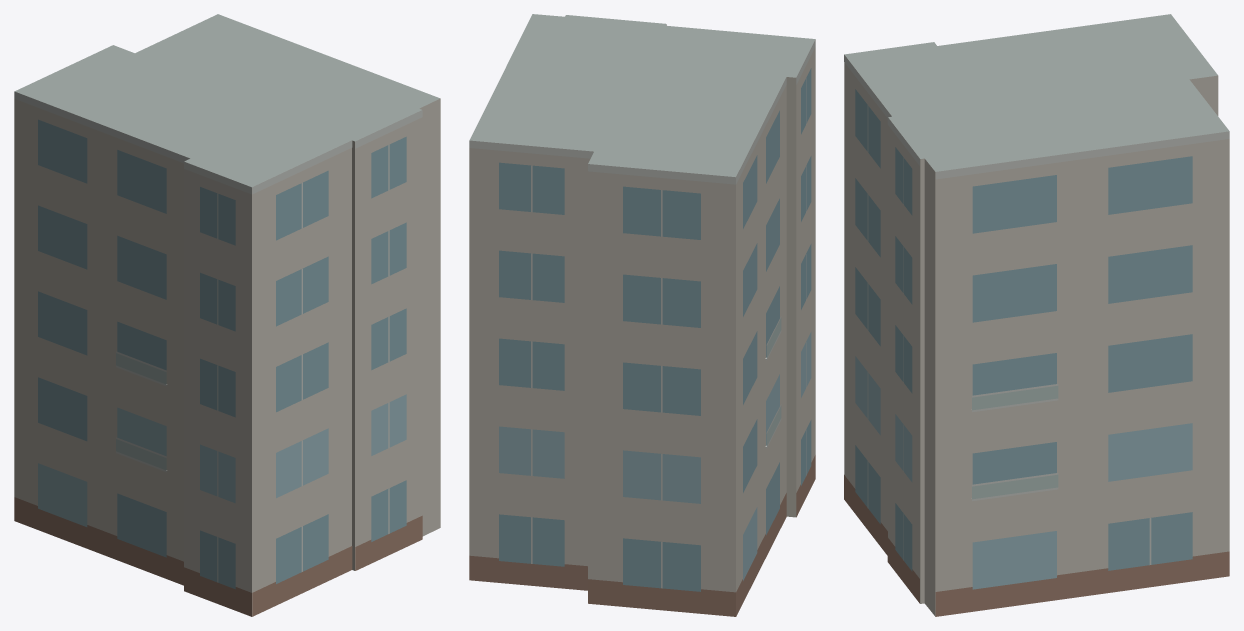
File: survey-upis-32620033.glb
The picture shows the model from 3 angles, left to right: view 1: azimuth 30°, elevation 25°; view 2: azimuth 150°, elevation 25°; view 3: azimuth 270°, elevation 25°; orthographic projection. The views are drawn at different scales.
Visible parts, largest first — view 1: survey-upis-32620033.tmp; view 2: survey-upis-32620033.tmp; view 3: survey-upis-32620033.tmp.
Part boxes in pixels (x1,y1,x2,y2): survey-upis-32620033.tmp: (14, 14, 440, 616); survey-upis-32620033.tmp: (469, 14, 815, 616); survey-upis-32620033.tmp: (844, 14, 1229, 616).
Bounding box in the file's own units: 10.97 × 14.4 × 11.32.
